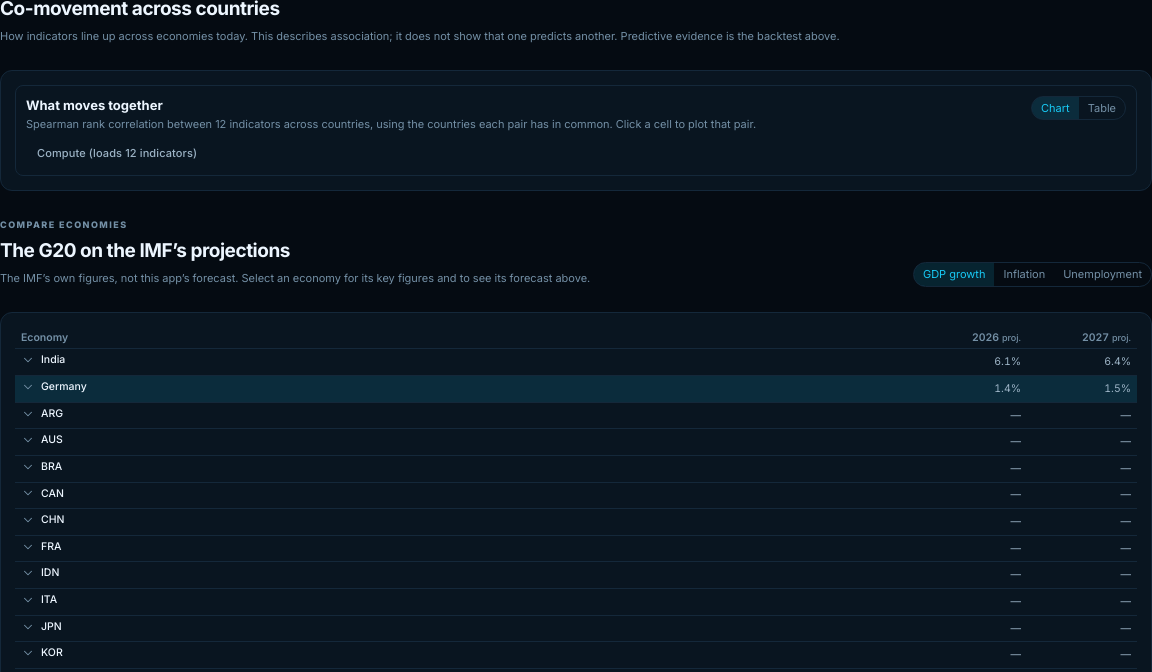
ForecastHome › expands a G20 row into the country’s key figures and opens its full page from below the table
The image size is (1152, 672).
(page scrolled)
Click the button "India" at coordinates (43, 360), box [21,352,65,368]
(page scrolled)
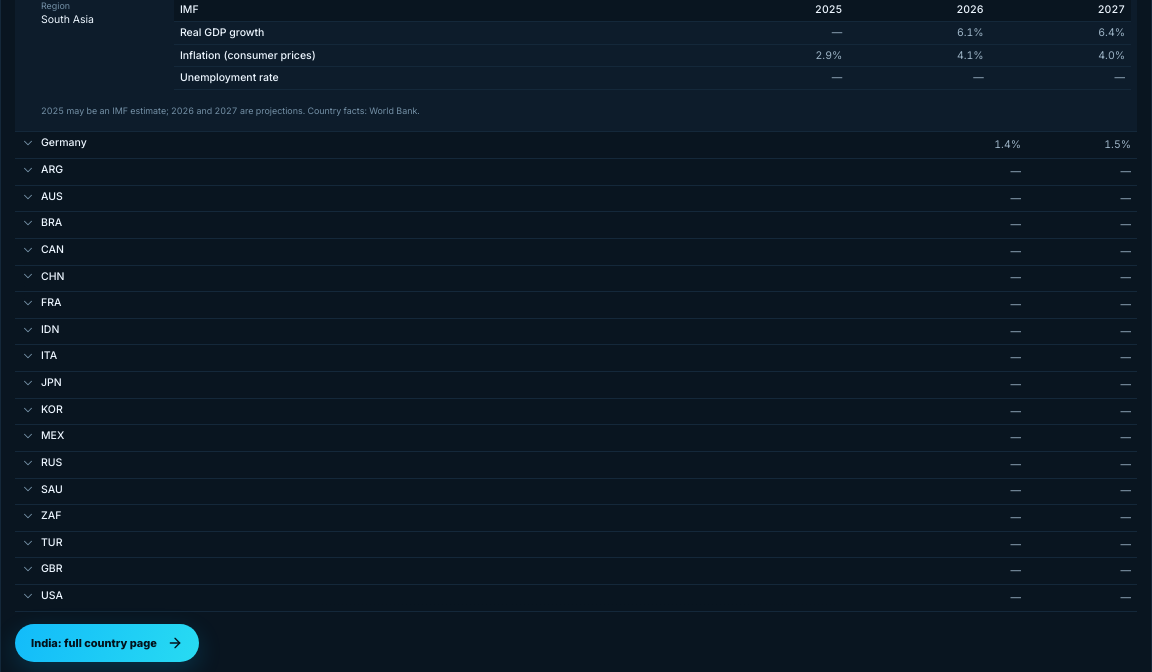
Result: the row with id "fh-detail-IND" shows "South Asia" at [41,13,94,26]
Result: the row with id "fh-detail-IND" shows "4.1%" at [957,48,984,62]
Result: the text "Unemployment rate" reads "Unemployment rate — — —" at [174,67,1131,90]
Click the button "India: full country page" at coordinates (107, 643), box [15,624,199,662]
(page scrolled)
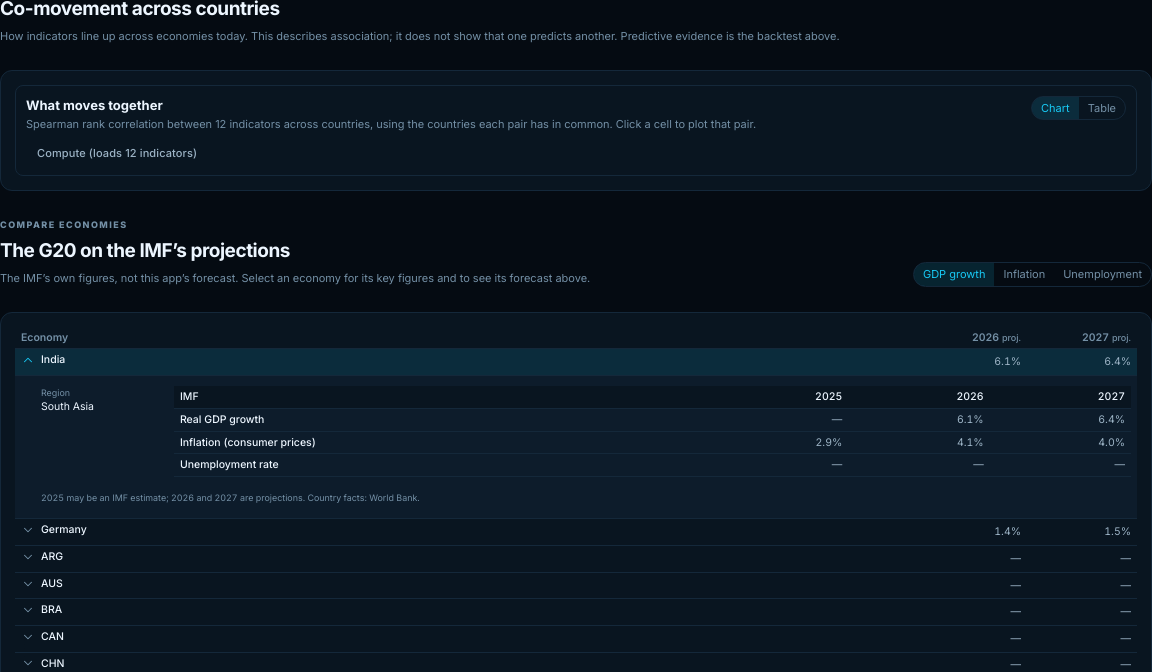
Click the button "India" at coordinates (43, 360), box [21,352,65,368]
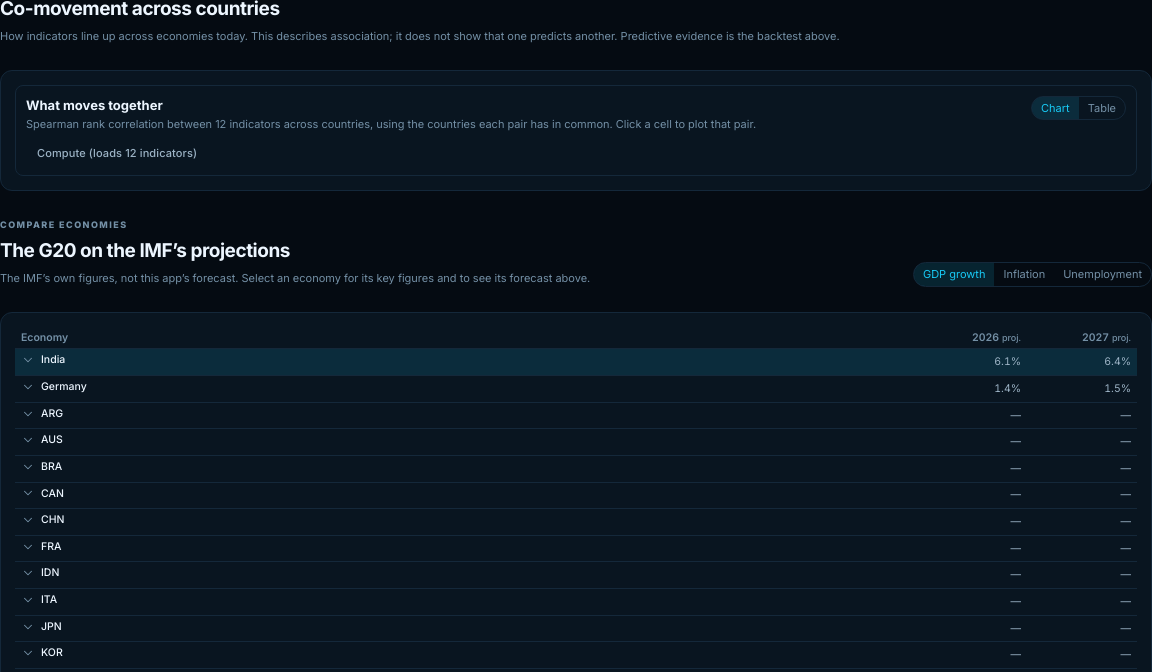
Result: the row with id "fh-detail-IND" is gone
